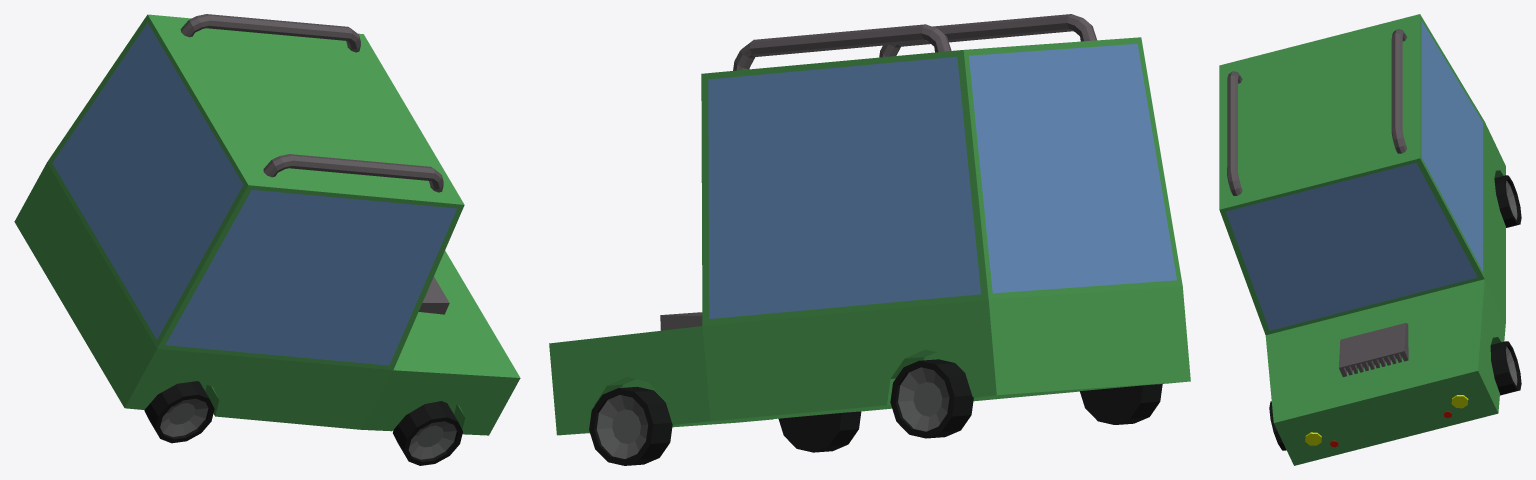
File: car.gltf
The picture shows the model from 3 angles, left to right: view 1: azimuth 30°, elevation 25°; view 2: azimuth 150°, elevation 25°; view 3: azimuth 270°, elevation 25°; orthographic projection. The views are drawn at different scales.
Parts seen in each view (by area): view 1: car; view 2: car; view 3: car.
Boxes of the visible parts, left/top/right/bottom form: car: left=14, top=14, right=520, bottom=465; car: left=549, top=14, right=1190, bottom=465; car: left=1219, top=14, right=1521, bottom=465.
Size of the model in its own units: 3.32 by 3.38 by 2.6.
